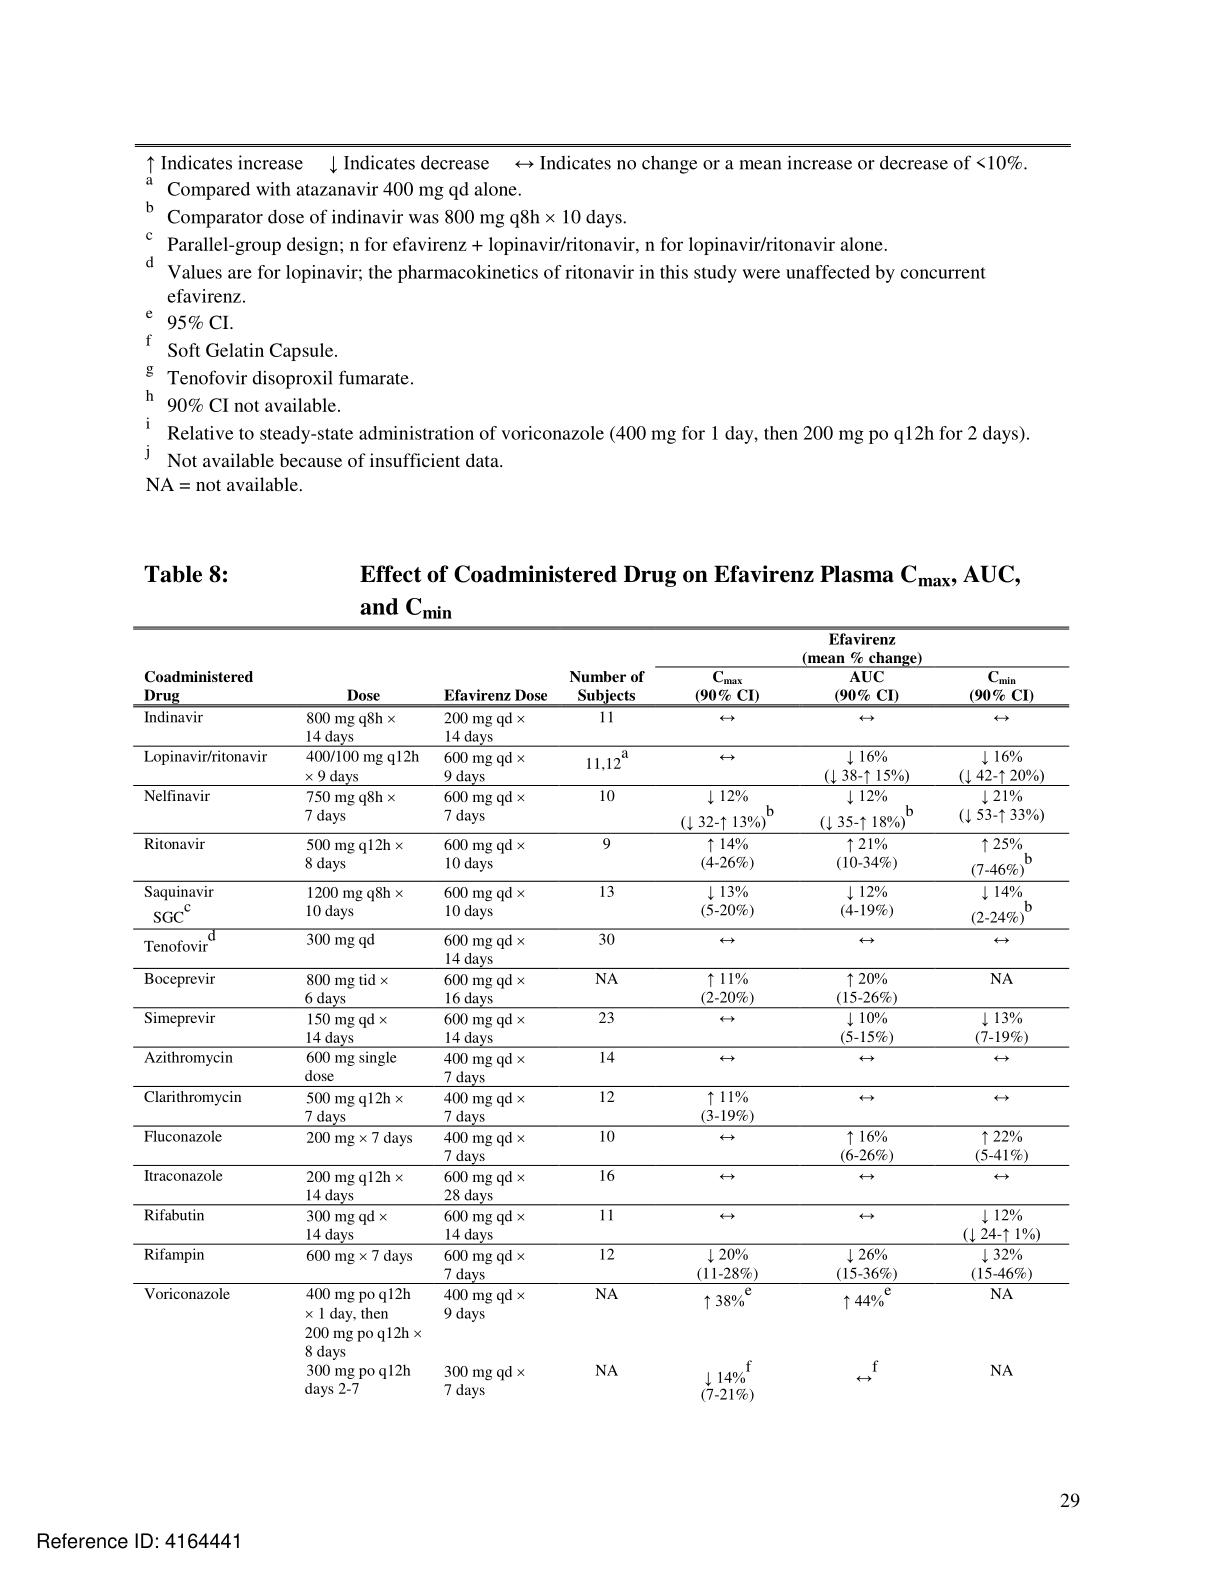partial_lined_merged_cells: (130, 625, 1071, 1404)
